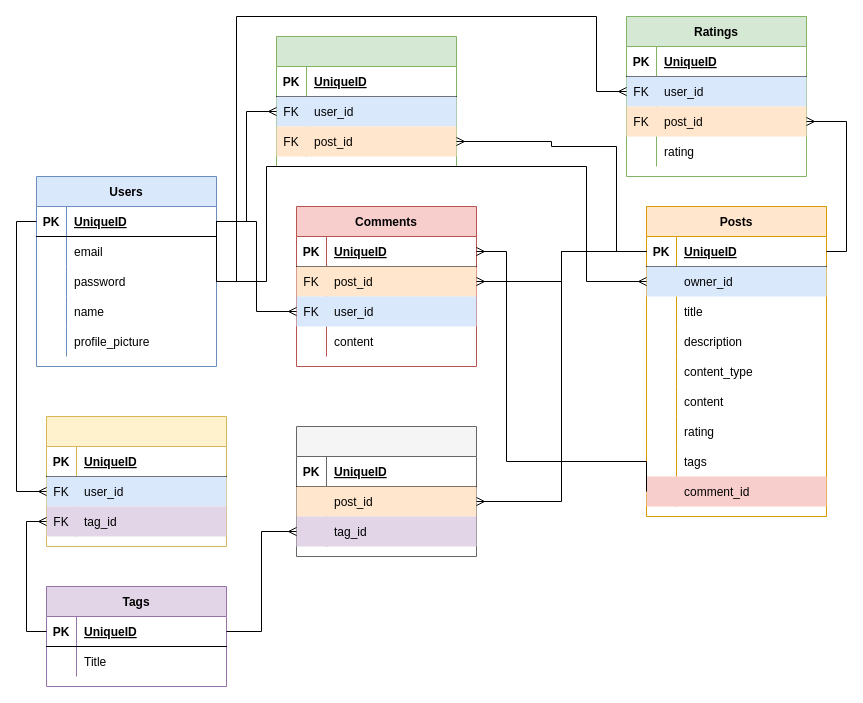
The diagram is 863 pixels wide and 703 high, and some of its shapes have lost their labels. Here are the shapes that lost their labels. From the top down, the box of each, then its label:
(276, 36, 456, 166): Liked Posts
(46, 416, 226, 546): Interests
(296, 426, 476, 556): Post Tags
